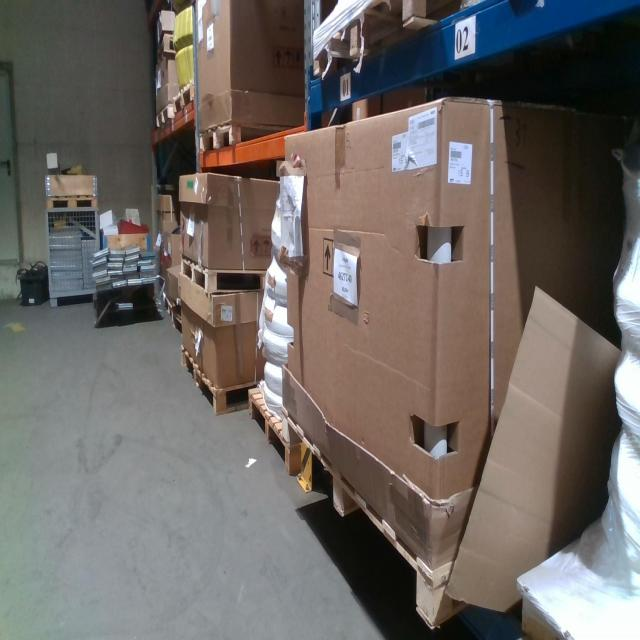pallet: (281, 405, 555, 637), (179, 342, 273, 417), (315, 2, 399, 72), (249, 380, 298, 475), (179, 252, 273, 297), (399, 2, 535, 28), (198, 121, 295, 153), (45, 192, 101, 211), (173, 78, 196, 117), (153, 105, 173, 131), (158, 33, 177, 57)
stillage: (45, 204, 102, 306)
